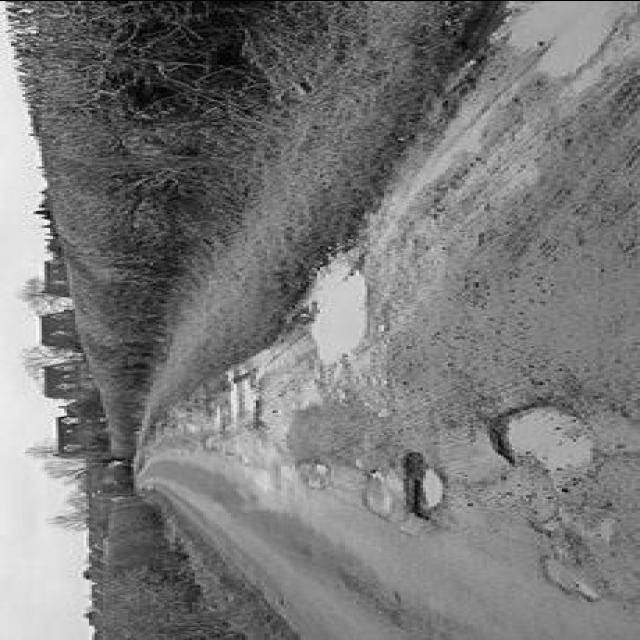lubang: (379, 82, 511, 277), (468, 1, 638, 112), (476, 404, 610, 484), (286, 252, 378, 368), (503, 498, 637, 554), (322, 568, 422, 636), (270, 364, 352, 416), (214, 366, 274, 436), (392, 452, 450, 520), (532, 555, 606, 608), (218, 450, 280, 508), (347, 456, 392, 526), (164, 402, 218, 437), (291, 454, 339, 491), (382, 508, 434, 542), (194, 428, 226, 459)
